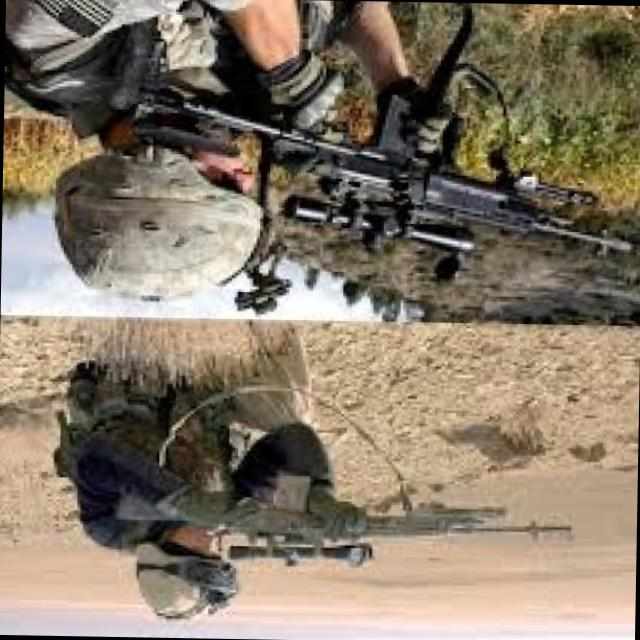Gun: (85, 64, 633, 286), (135, 458, 574, 584)
